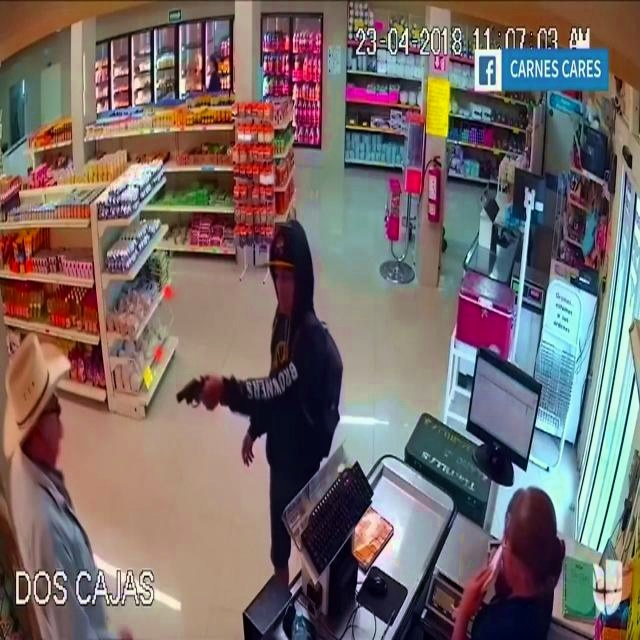gun: (170, 364, 216, 422)
